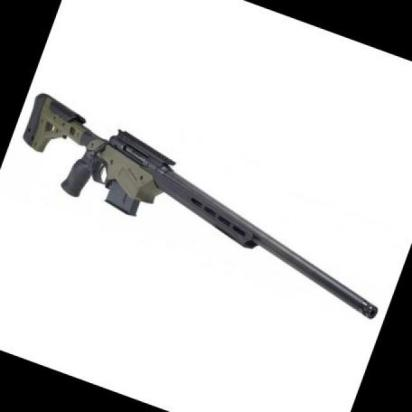Gun: (19, 90, 382, 322)
